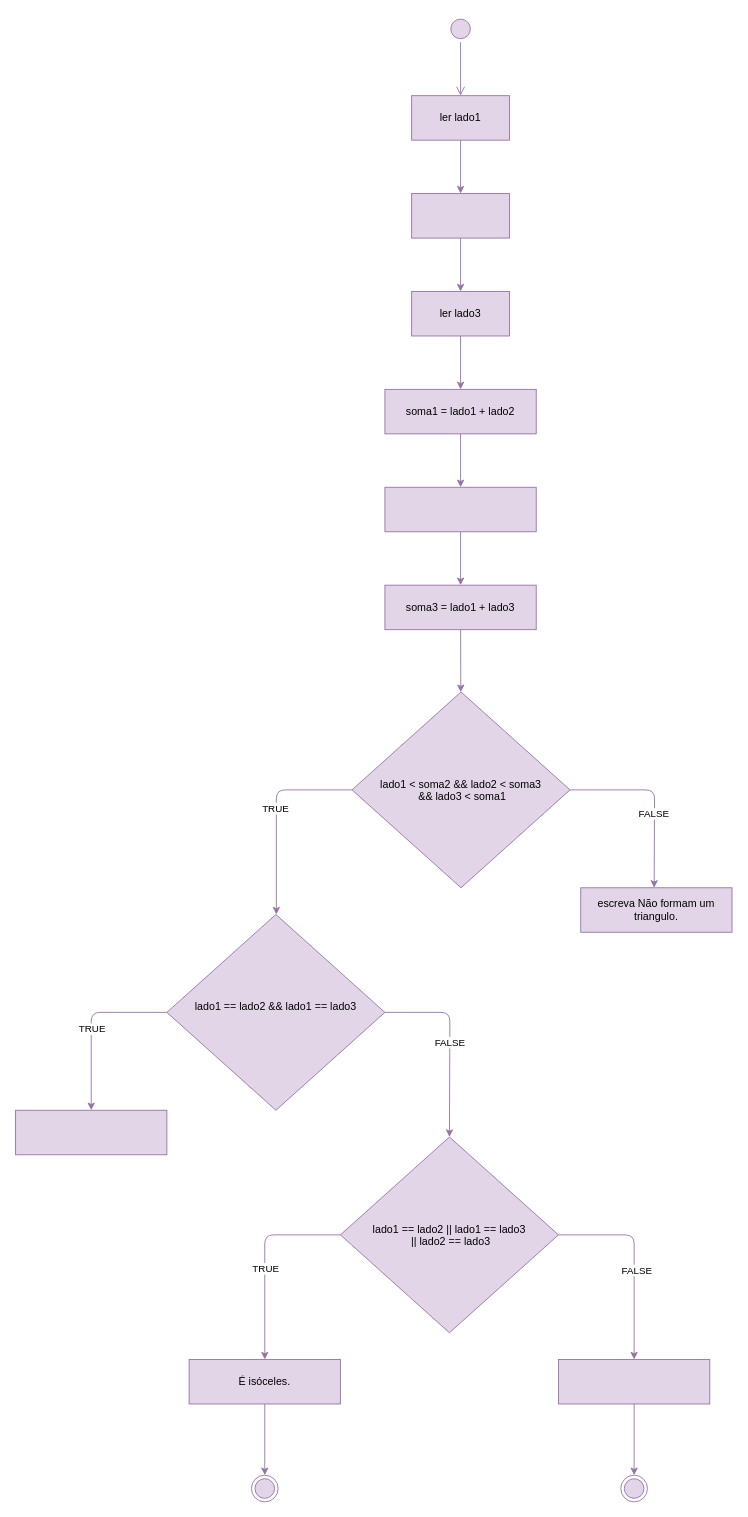
The diagram is 748 pixels wide and 1517 high, and some of its shapes have lost their labels. Here are the shapes that lost their labels. From the top down, the centre of each, then its label:
At point (460, 215): "ler lado2".
At point (460, 509): "soma2 = lado2 + lado3".
At point (91, 1132): "É equilátero.".
At point (634, 1381): "É escaleno.".
